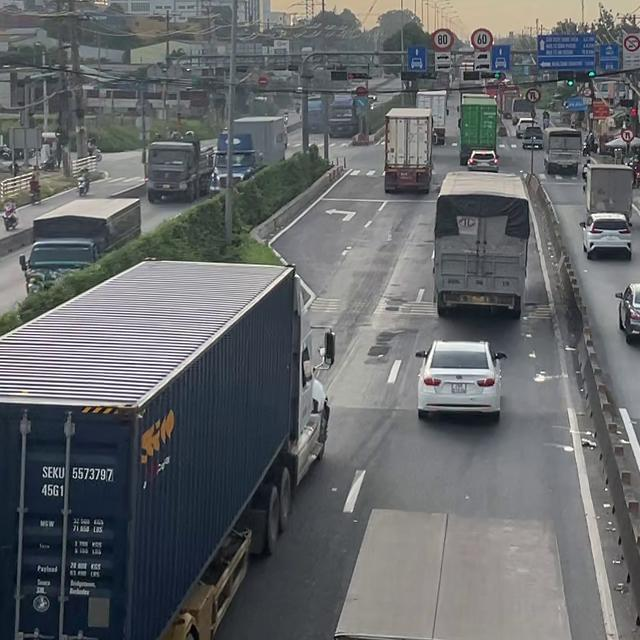car: (415, 339, 507, 419), (579, 211, 632, 260), (614, 282, 639, 344), (466, 149, 499, 172), (522, 127, 543, 149), (515, 117, 536, 138)
motorcycle: (1, 210, 18, 231), (77, 176, 89, 196)
truck: (0, 257, 332, 639), (332, 507, 574, 639), (431, 170, 530, 318), (18, 197, 141, 295), (211, 117, 286, 191), (142, 136, 215, 203), (383, 107, 433, 193), (583, 163, 634, 222), (457, 96, 499, 165), (542, 126, 582, 175), (326, 94, 369, 137), (416, 89, 447, 145), (510, 97, 535, 125)
